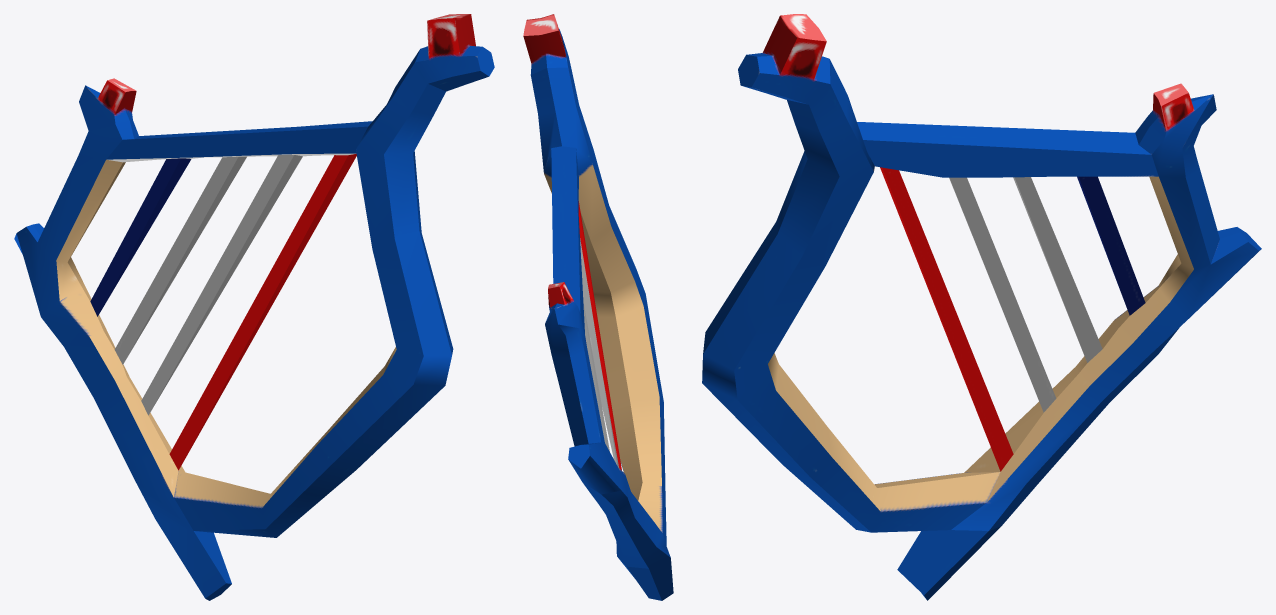
The model's file is Arpa2_000019.obj.
3 renders of one model, left to right at view 1: azimuth 30°, elevation 25°; view 2: azimuth 150°, elevation 25°; view 3: azimuth 270°, elevation 25°, orthographic. The views are drawn at different scales.
Visible parts, largest first — view 1: a2_Arpa_1:pCube7; view 2: a2_Arpa_1:pCube7; view 3: a2_Arpa_1:pCube7.
Boxes of the visible parts, left/top/right/bottom form: a2_Arpa_1:pCube7: left=14, top=14, right=494, bottom=600; a2_Arpa_1:pCube7: left=523, top=14, right=673, bottom=600; a2_Arpa_1:pCube7: left=702, top=14, right=1261, bottom=600.
Bounding box in the file's own units: 4.04 × 8.21 × 6.08.
